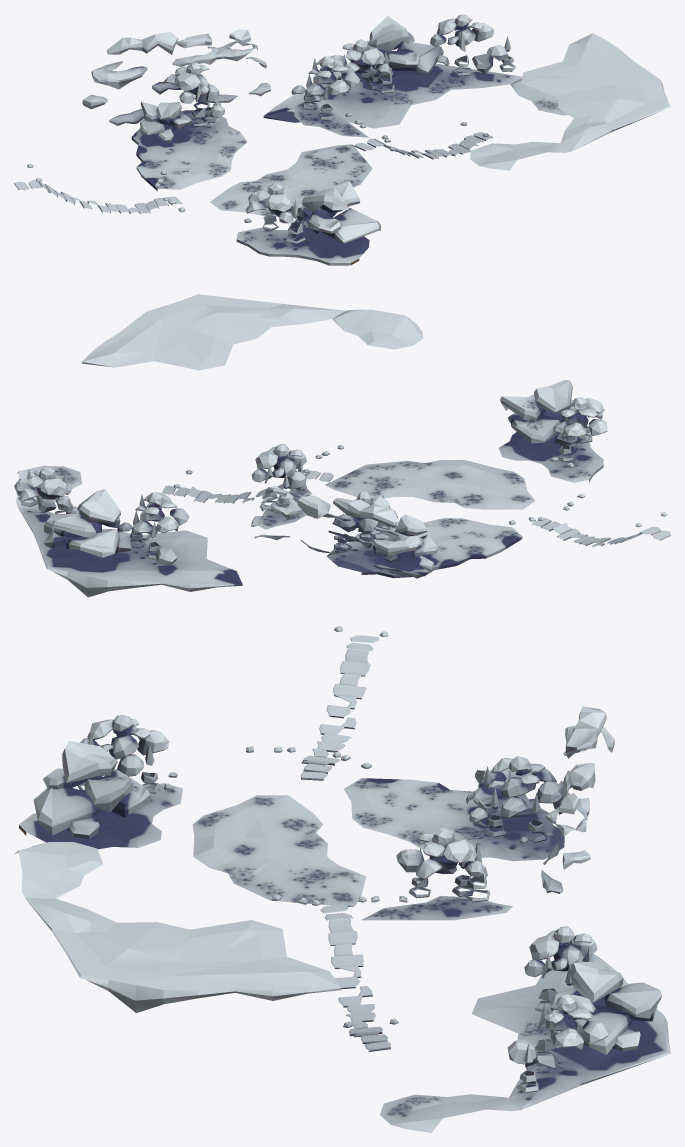
The model's file is Snow_01.FBX.
3 views of the same model, one above another, from view 1: azimuth 30°, elevation 25°; view 2: azimuth 150°, elevation 25°; view 3: azimuth 270°, elevation 25° (orthographic). The views are drawn at different scales.
Visible parts, largest first — view 1: Snow_01; view 2: Snow_01; view 3: Snow_01.
Boxes of the visible parts, x1,y1,x2,y2 form: Snow_01: (14, 14, 670, 265); Snow_01: (14, 294, 670, 597); Snow_01: (15, 626, 670, 1132).
Bounding box in the file's own units: 49.14 × 10.05 × 33.86.
